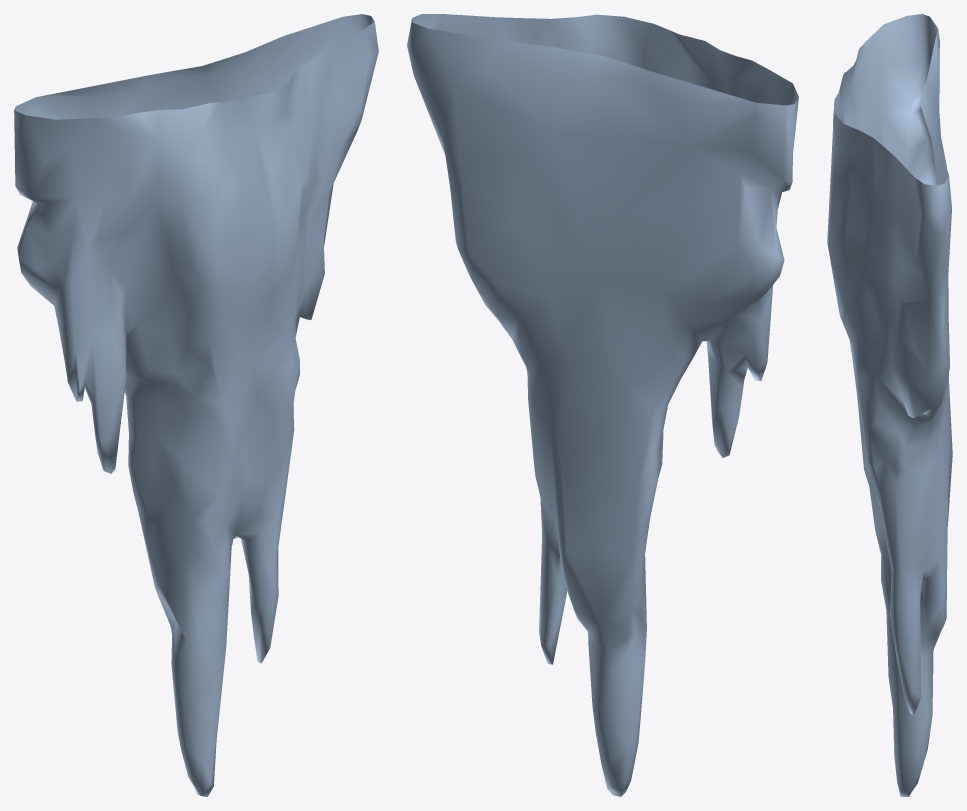
File: IciclesLarge_02.fbx
3 views of the same model, side by side, from view 1: azimuth 30°, elevation 25°; view 2: azimuth 150°, elevation 25°; view 3: azimuth 270°, elevation 25° (orthographic). The views are drawn at different scales.
Visible parts, largest first — view 1: IciclesLarge_02.001; view 2: IciclesLarge_02.001; view 3: IciclesLarge_02.001.
Boxes of the visible parts, left/top/right/bottom form: IciclesLarge_02.001: left=14, top=14, right=378, bottom=796; IciclesLarge_02.001: left=407, top=14, right=798, bottom=796; IciclesLarge_02.001: left=827, top=14, right=952, bottom=796.
Size of the model in its own units: 1.24 by 2.32 by 0.3791.
